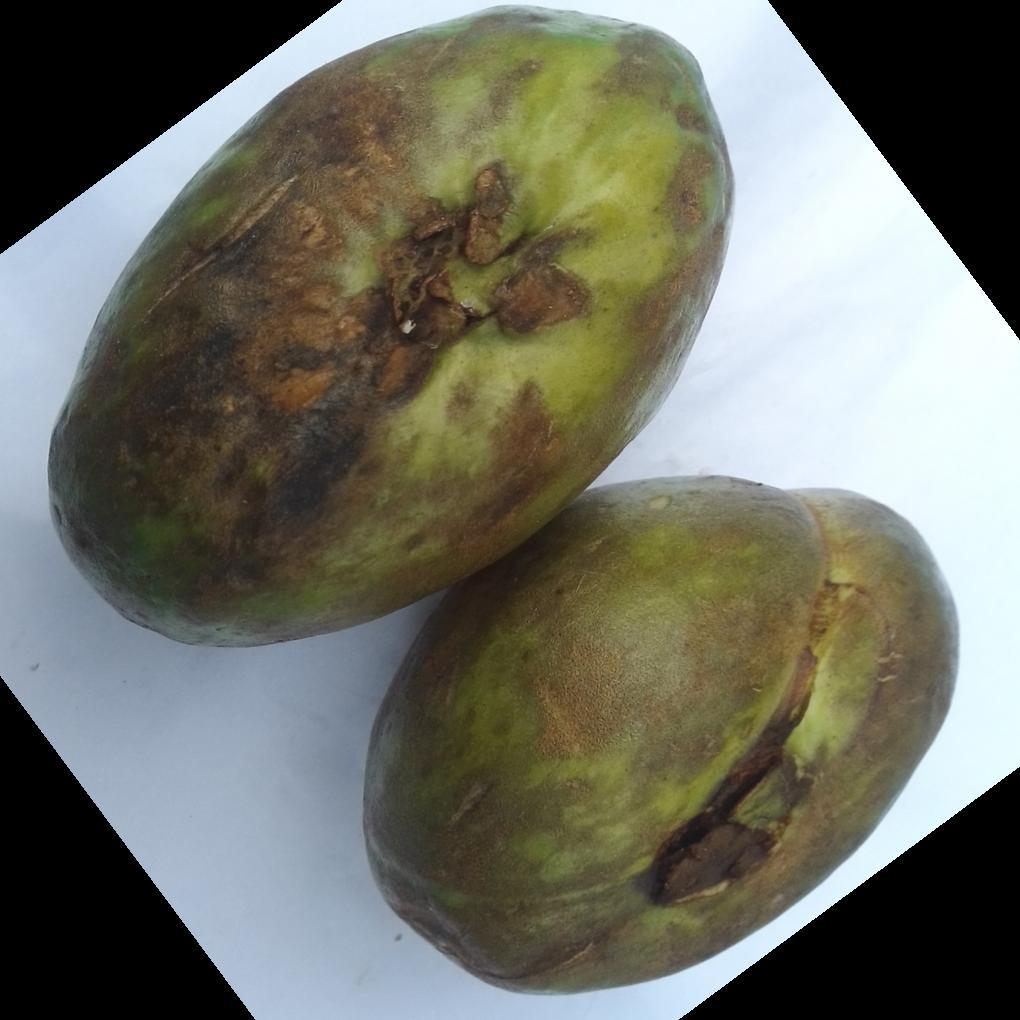FreshOrange: (46, 7, 962, 996), (0, 678, 254, 1020)
